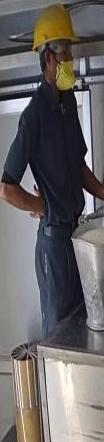hard-hat: (27, 7, 85, 51)
